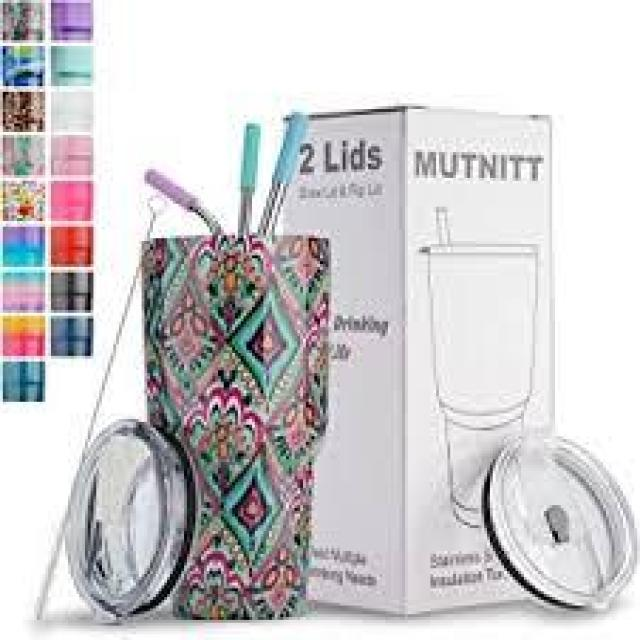bottle: (136, 106, 334, 623)
